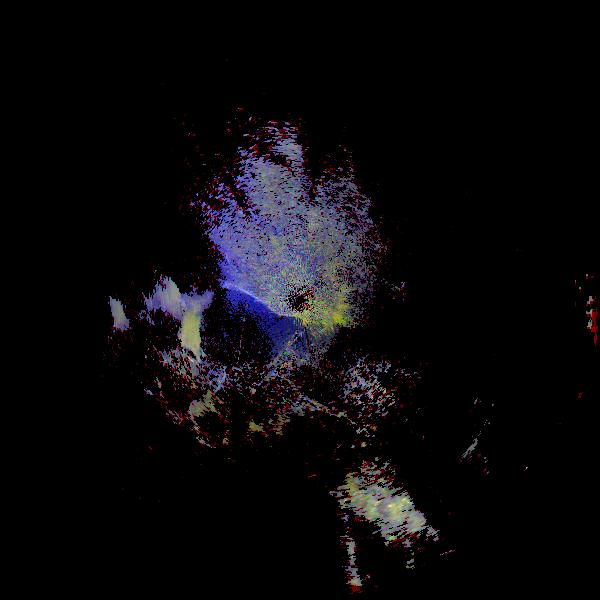roost: (98, 274, 230, 406)
